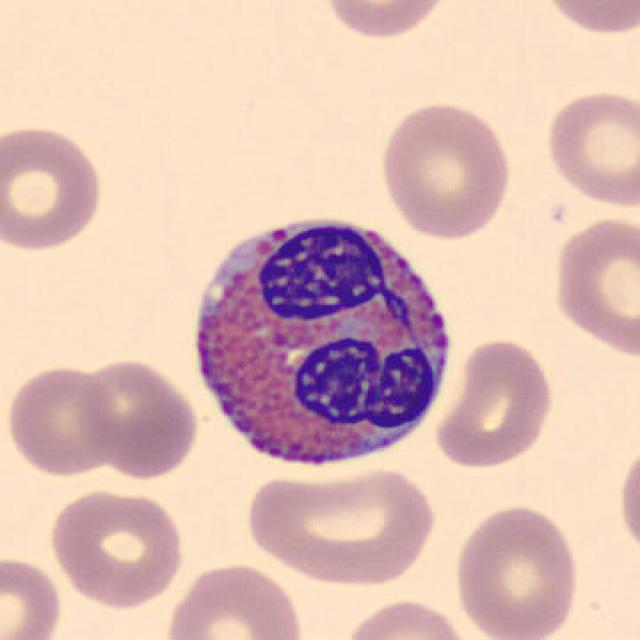Eosinophil: (178, 198, 464, 483)
RBC: (240, 460, 441, 589), (375, 97, 516, 242), (449, 500, 583, 640), (42, 487, 186, 610), (432, 333, 556, 471), (73, 354, 203, 482), (0, 120, 108, 256), (2, 362, 119, 479), (548, 212, 638, 362), (540, 86, 638, 210), (162, 559, 308, 640), (338, 594, 478, 640), (316, 0, 455, 42), (0, 552, 66, 640), (535, 0, 638, 37), (613, 435, 640, 566)
